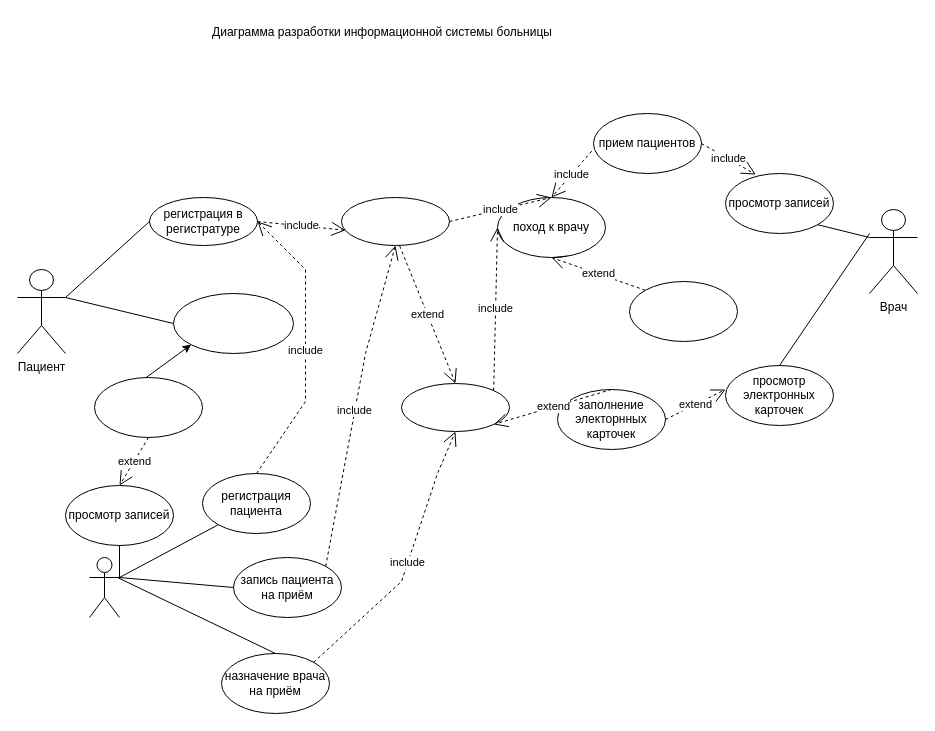
Image size: 935x731. Some labels were removed from this diagram. Here are the shapes that lost their labels. From the top down, the centre of each, then its label:
At [395,221]: "запись на приём".
At [233,323]: "просмотр своей электронной карточки".
At [683,311]: "изменить время приема".
At [148,407]: "смотрит свои болезни и болячки".
At [455,407]: "назначение времени".
At [104,587]: "Администратор".
